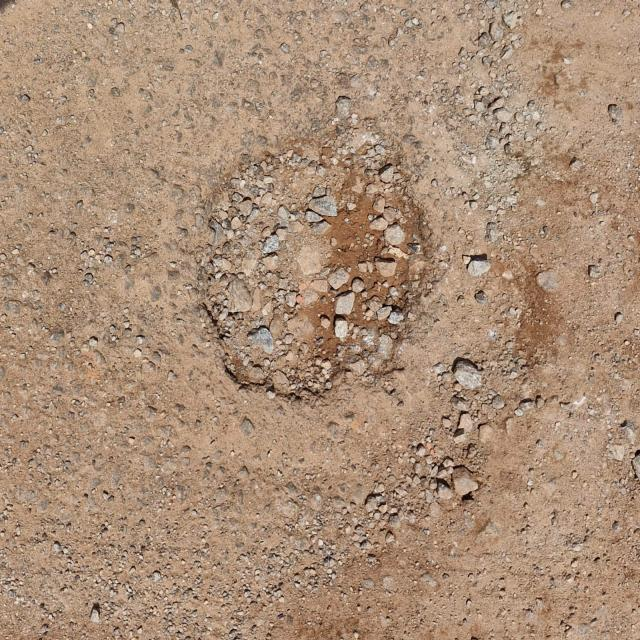pothole: (436, 33, 624, 442), (200, 127, 426, 396), (215, 456, 509, 637)
